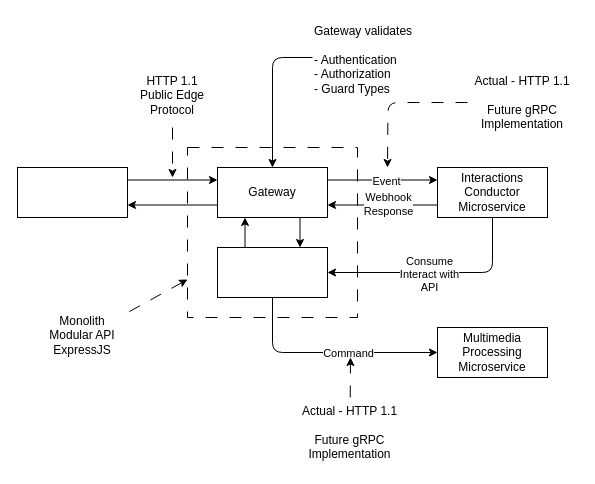
The diagram is 595 pixels wide and 484 high, and some of its shapes have lost their labels. Here are the shapes that lost their labels. From the top down, the centre of each, then its label:
At (x=72, y=192): "Client Public App NextJS".
At (x=272, y=272): "Public API Modules".
